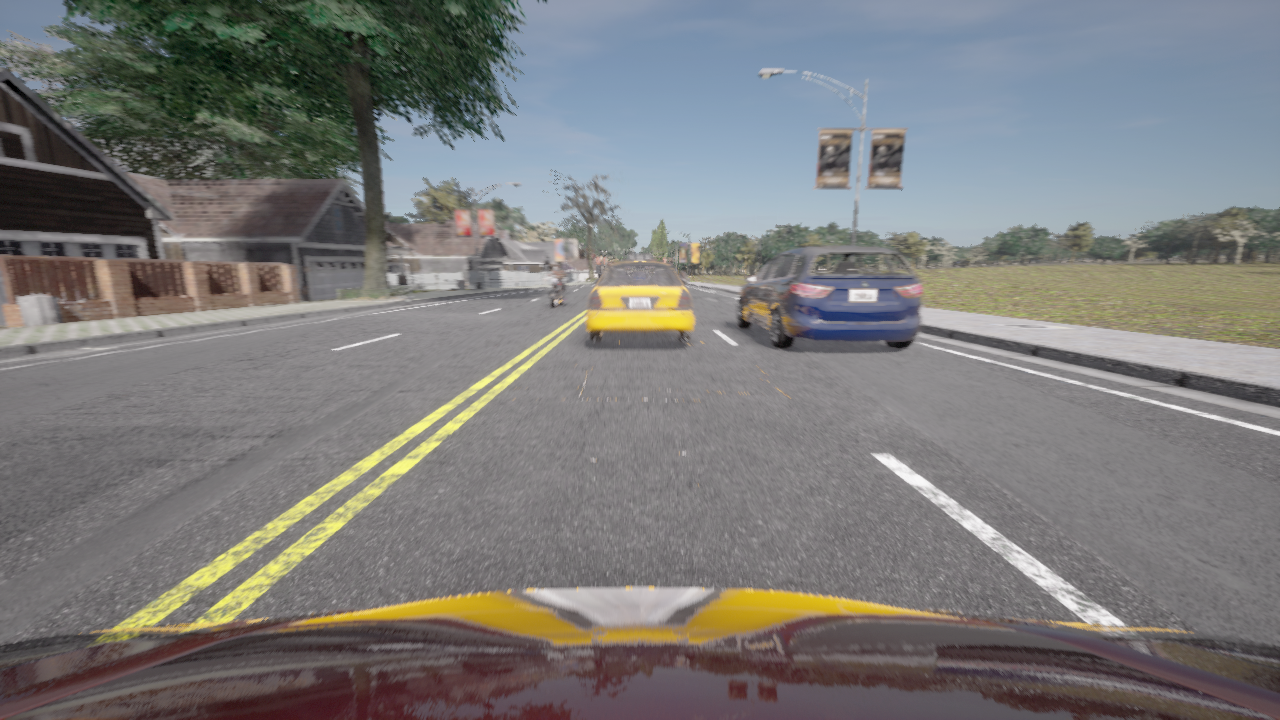cyclist: (0, 588, 1279, 719), (736, 245, 922, 348), (586, 254, 693, 341), (546, 272, 566, 308), (681, 277, 685, 286)
